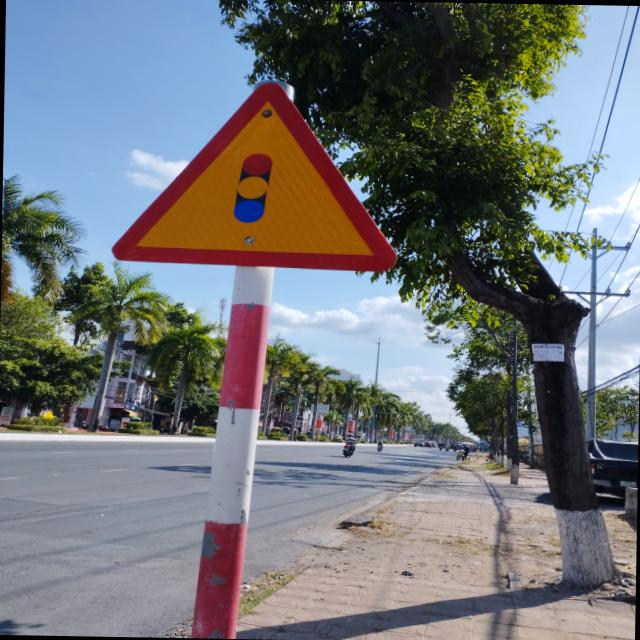Duong_Co_Go_Giam_Toc: (108, 79, 401, 272)
